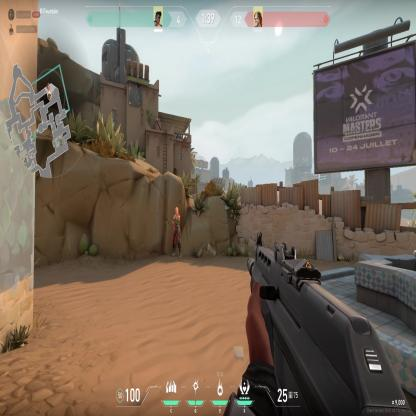enemy: (171, 206, 182, 259)
